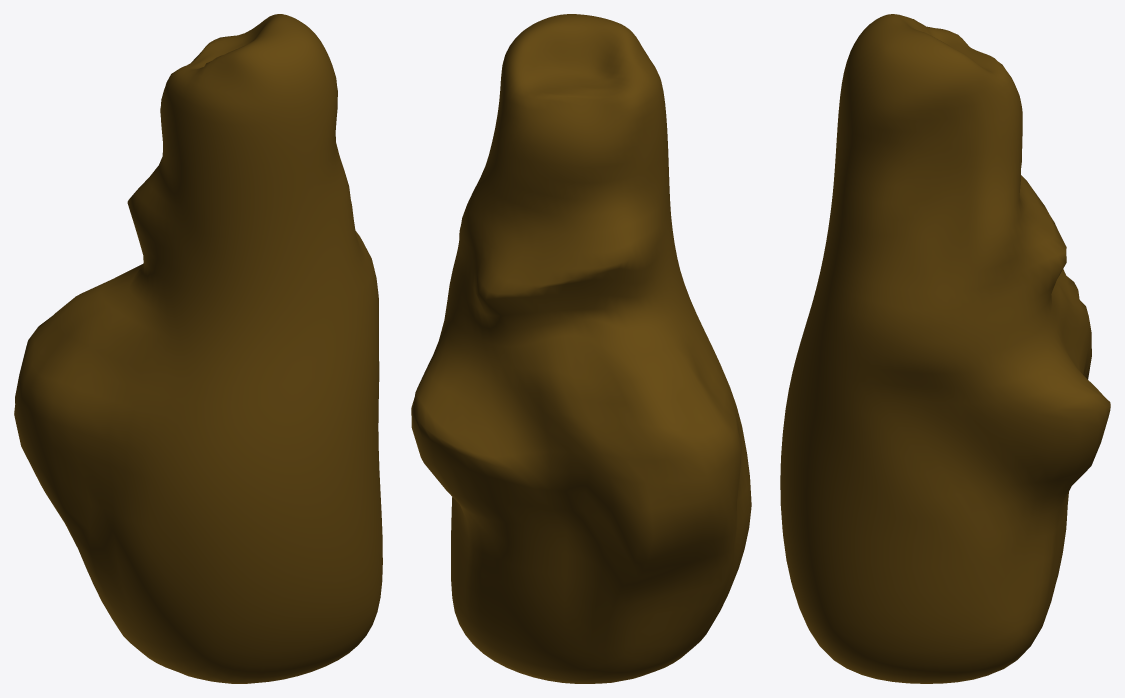
Rendered from obstacle-3.glb.
3 renders of one model, left to right at view 1: azimuth 30°, elevation 25°; view 2: azimuth 150°, elevation 25°; view 3: azimuth 270°, elevation 25°, orthographic.
Visible parts, largest first — view 1: Plane.002; view 2: Plane.002; view 3: Plane.002.
Boxes of the visible parts, x1,y1,x2,y2 form: Plane.002: (14, 14, 382, 683); Plane.002: (411, 14, 751, 683); Plane.002: (780, 14, 1110, 683).
Size of the model in its own units: 8.23 by 16.37 by 7.73.
